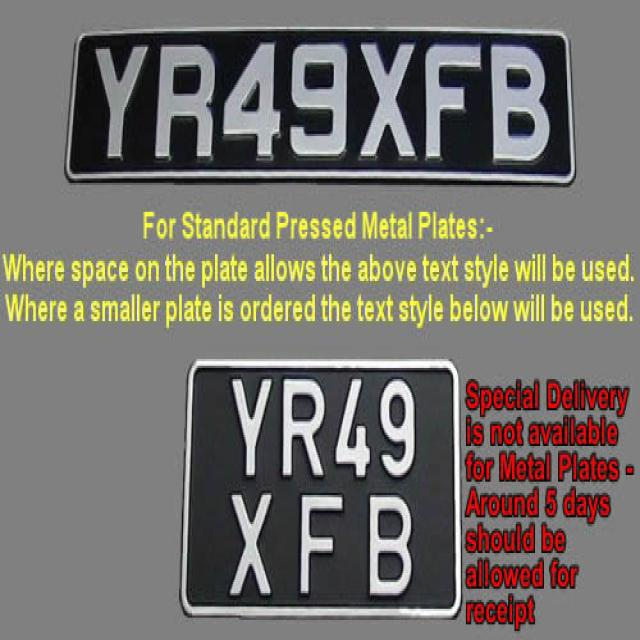plate: (69, 24, 580, 188), (182, 351, 464, 617)
